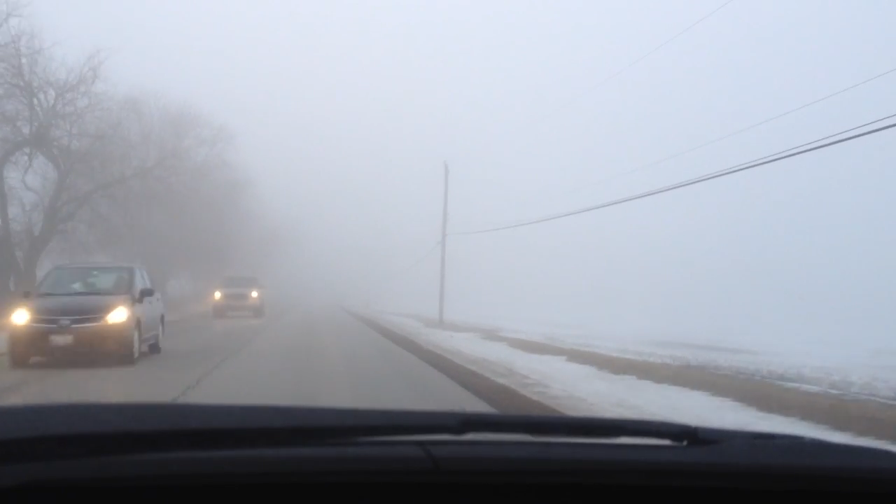car: (8, 262, 166, 366), (211, 273, 266, 318)
